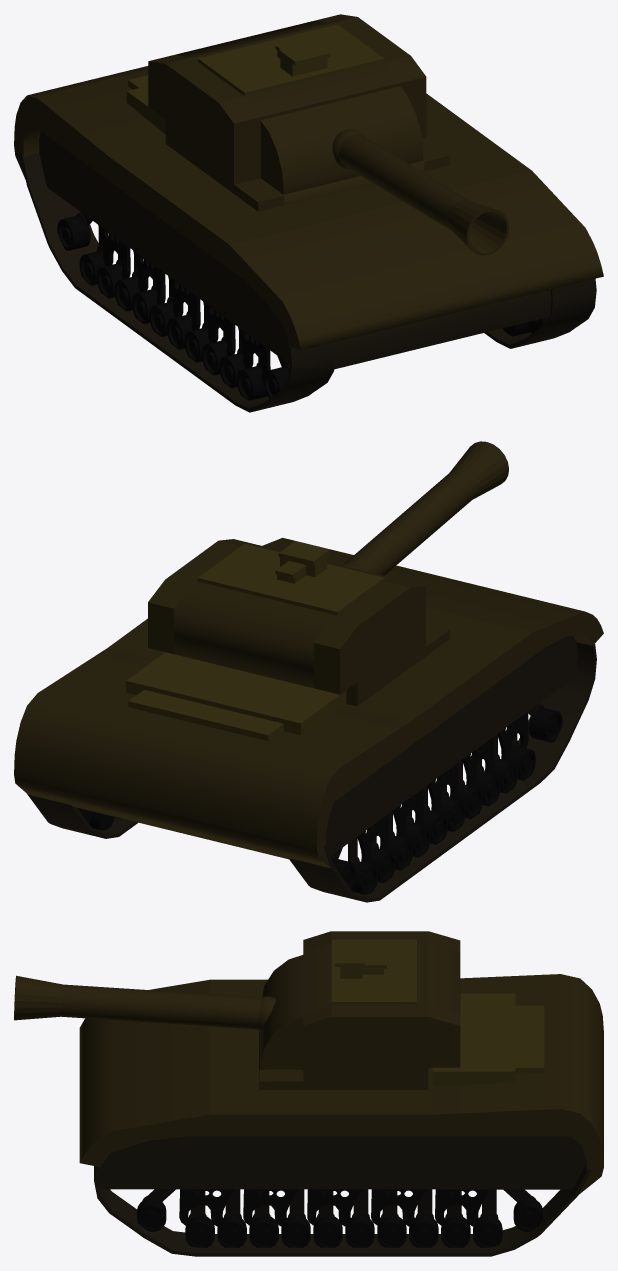
Rendered from Tank.FBX.
The picture shows the model from 3 angles, top to bottom: view 1: azimuth 30°, elevation 25°; view 2: azimuth 150°, elevation 25°; view 3: azimuth 270°, elevation 25°; orthographic projection. The views are drawn at different scales.
Parts seen in each view (by area): view 1: Box002, Box029, Box001, Cylinder049, Line013, Cylinder050, Box030, Line001, Cylinder063, Line015, Line016, Line018 (+16 smaller); view 2: Box002, Box029, Box001, Box027, Line013, Cylinder050, Box030, Box028, Line001, Cylinder074, Line015, Line014 (+14 smaller); view 3: Box002, Box001, Box029, Cylinder050, Line001, Box027, Box030, Cylinder049, Box028, Line003, Line004, Line005 (+15 smaller).
Boxes of the visible parts, box(x1,y1,x2,y2) form: Box002: box(14, 66, 603, 350); Box029: box(148, 14, 450, 211); Box001: box(39, 131, 551, 369); Cylinder049: box(260, 86, 423, 194); Line013: box(20, 152, 335, 412); Cylinder050: box(339, 134, 509, 255); Box030: box(198, 24, 384, 96); Line001: box(484, 278, 596, 348); Cylinder063: box(57, 216, 90, 250); Line015: box(203, 301, 235, 355); Line016: box(168, 276, 200, 330); Line018: box(98, 225, 130, 278); Box002: box(14, 537, 603, 868); Box029: box(148, 539, 450, 706); Box001: box(326, 636, 578, 855); Box027: box(126, 652, 346, 735); Line013: box(288, 642, 596, 902); Cylinder050: box(344, 441, 508, 575); Box030: box(197, 543, 384, 615); Box028: box(128, 689, 283, 740); Line001: box(27, 794, 137, 838); Cylinder074: box(529, 707, 562, 742); Line015: box(462, 737, 493, 786); Line014: box(497, 711, 528, 761); Box002: box(79, 974, 603, 1194); Box001: box(99, 1136, 586, 1189); Box029: box(259, 931, 460, 1089); Cylinder050: box(14, 975, 261, 1029); Line001: box(94, 1164, 591, 1256); Box027: box(432, 993, 515, 1085); Box030: box(331, 939, 416, 1004); Cylinder049: box(261, 955, 303, 1069); Box028: box(515, 1005, 544, 1074); Line003: box(243, 1189, 297, 1226); Line004: box(307, 1189, 361, 1226); Line005: box(371, 1189, 425, 1226).
Size of the model in its own units: 87.11 by 69.9 by 160.
